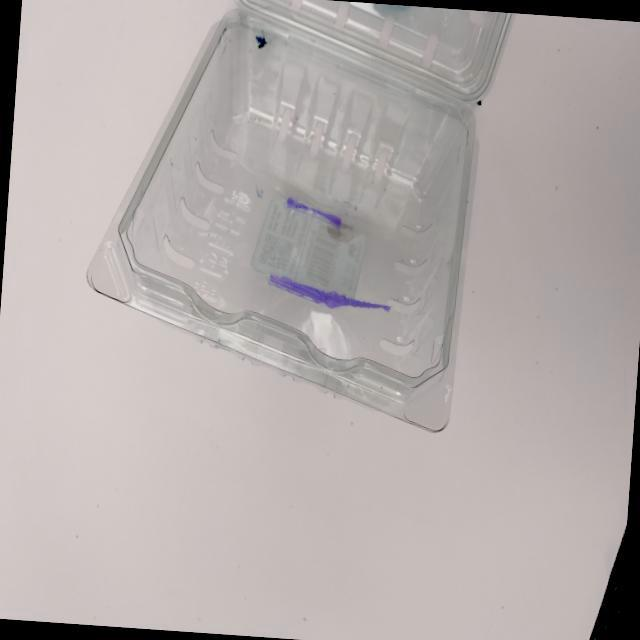plastic: (42, 0, 527, 467)
